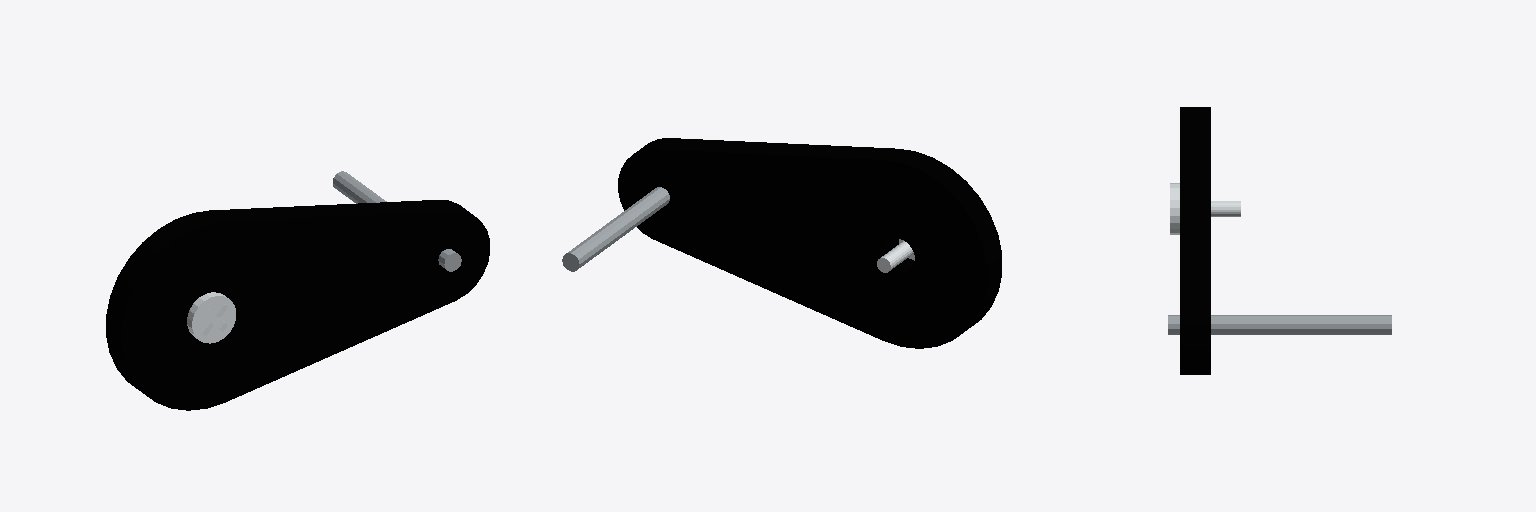
The picture shows the model from 3 angles: view 1: azimuth 30°, elevation 25°; view 2: azimuth 150°, elevation 25°; view 3: azimuth 270°, elevation 25°; orthographic projection.
Visible parts, largest first — view 1: base2; view 2: base2; view 3: base2.
Boxes of the visible parts, <box> form: base2: <box>106,171,489,410</box>; base2: <box>562,138,1001,348</box>; base2: <box>1168,107,1391,374</box>.
Bounding box in the file's own units: 0.0419 × 0.02 × 0.022.